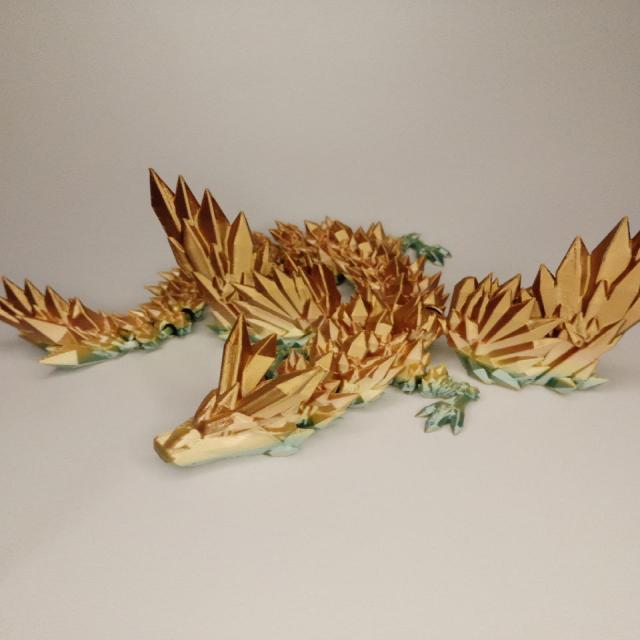Without deffect: (0, 141, 640, 473)
